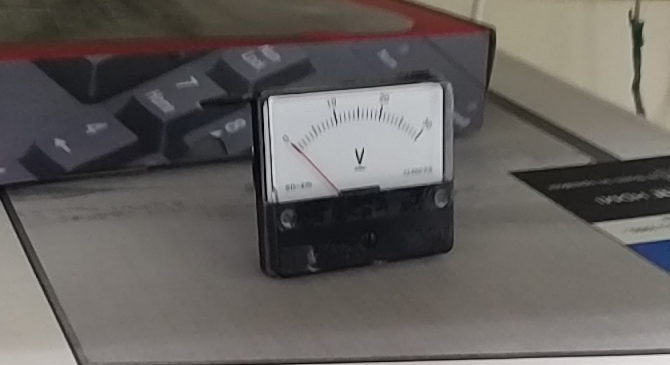Volt_Meter: (261, 93, 452, 190)
